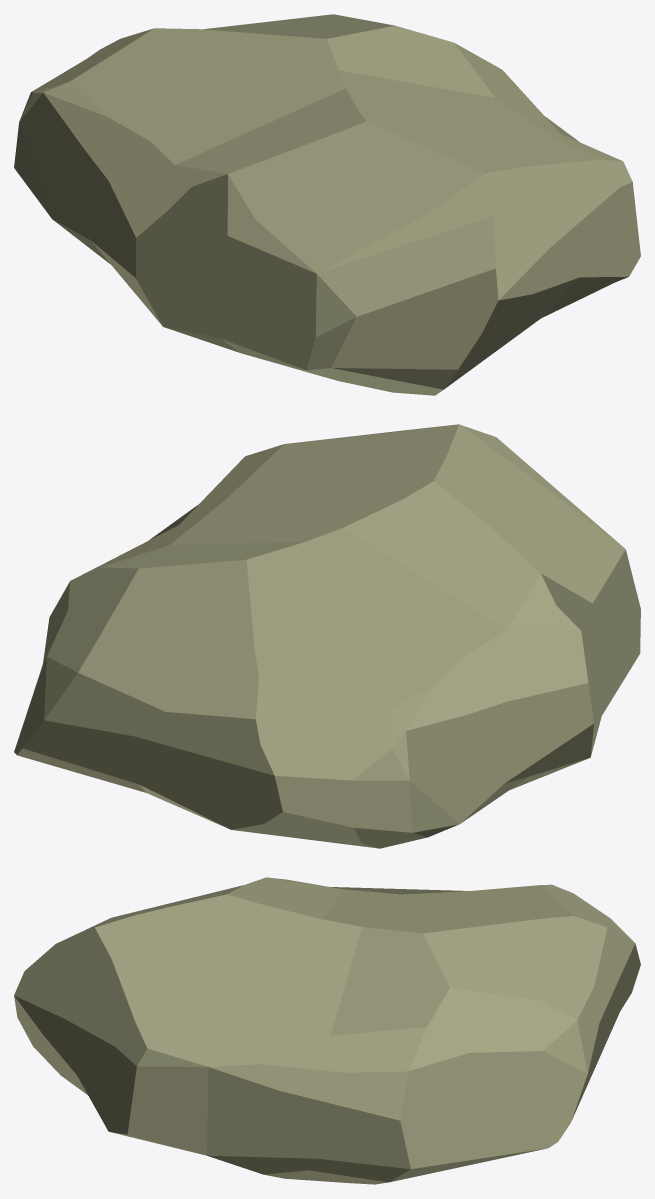
Rendered from rock4.fbx.
3 views of the same model, one above another, from view 1: azimuth 30°, elevation 25°; view 2: azimuth 150°, elevation 25°; view 3: azimuth 270°, elevation 25° (orthographic). The views are drawn at different scales.
Visible parts, largest first — view 1: Cube.002; view 2: Cube.002; view 3: Cube.002.
Boxes of the visible parts, left/top/right/bottom form: Cube.002: left=14, top=14, right=640, bottom=395; Cube.002: left=14, top=424, right=640, bottom=848; Cube.002: left=14, top=877, right=640, bottom=1184.
Size of the model in its own units: 115 by 63.11 by 150.
